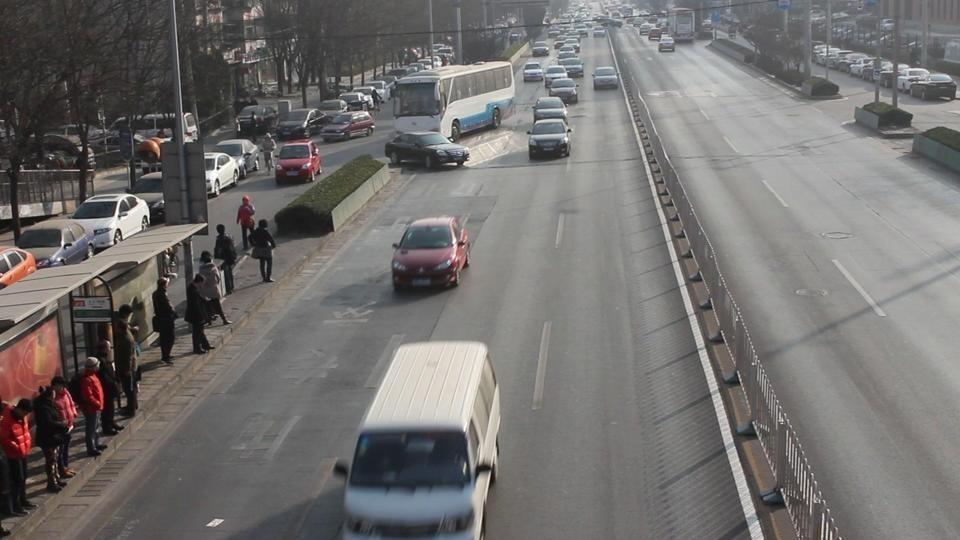car: (341, 338, 502, 536), (390, 214, 472, 291), (145, 148, 243, 196), (70, 193, 151, 250), (16, 217, 92, 267), (383, 129, 470, 170), (273, 138, 322, 184), (130, 174, 168, 225), (314, 112, 376, 143), (527, 118, 572, 160), (901, 67, 958, 100), (276, 108, 329, 141), (0, 246, 39, 290), (214, 139, 259, 177), (204, 152, 239, 197), (235, 105, 278, 137), (539, 84, 574, 118), (532, 96, 569, 122), (547, 77, 578, 106), (544, 68, 575, 97), (340, 89, 382, 110), (898, 65, 931, 91), (845, 54, 872, 77), (593, 66, 620, 89), (542, 66, 569, 84), (522, 61, 544, 83), (560, 58, 584, 78), (530, 42, 550, 57), (659, 35, 675, 52)
